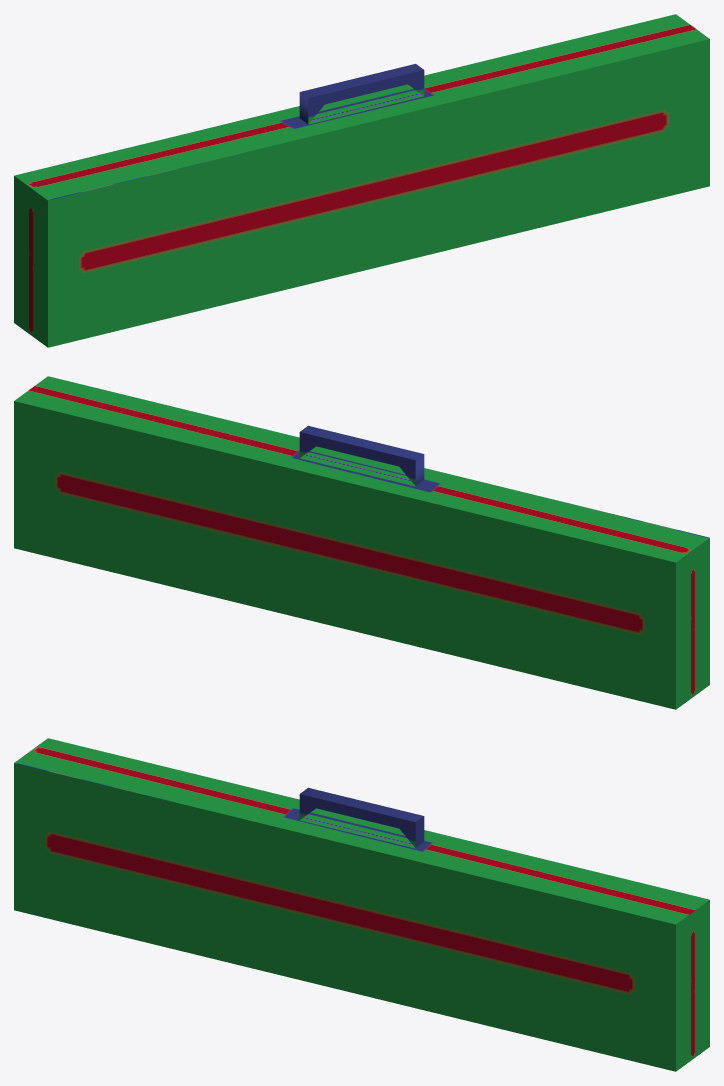
File: suitcase3.fbx
The picture shows the model from 3 angles, top to bottom: view 1: azimuth 30°, elevation 25°; view 2: azimuth 150°, elevation 25°; view 3: azimuth 330°, elevation 25°; orthographic projection.
Parts seen in each view (by area): view 1: pasted__brefcase1; view 2: pasted__brefcase1; view 3: pasted__brefcase1.
Boxes of the visible parts, x1,y1,x2,y2 form: pasted__brefcase1: (14,14,709,347); pasted__brefcase1: (14,376,709,709); pasted__brefcase1: (14,738,709,1071).
Size of the model in its own units: 123 by 30.71 by 10.91.
